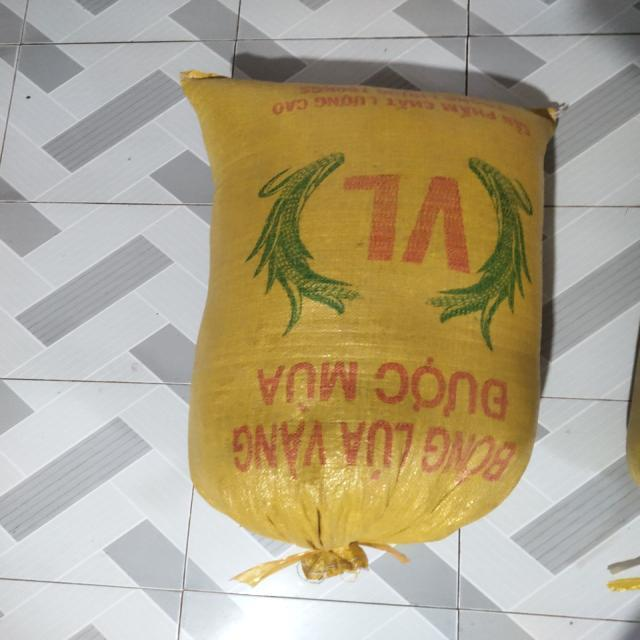gunny_bag: (181, 70, 556, 586)
